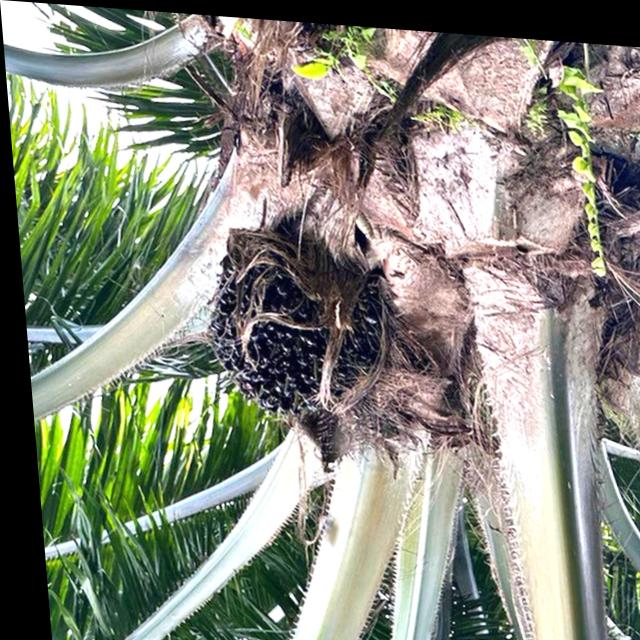unripe: (188, 206, 426, 433)
